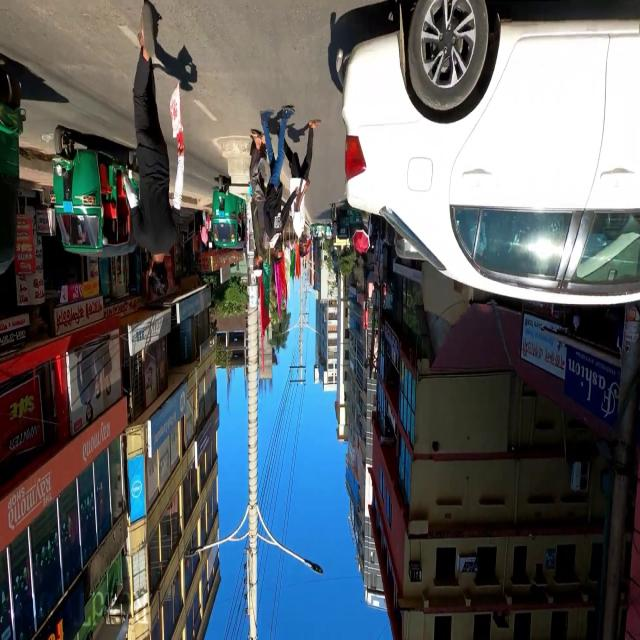white: (328, 0, 640, 329)
